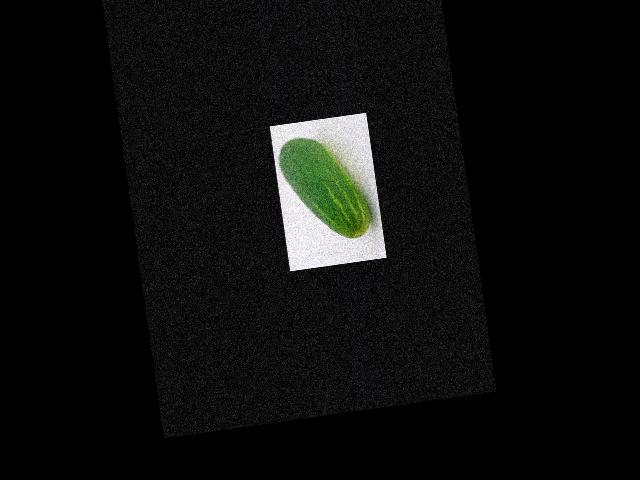cucumber: (276, 129, 373, 246)
